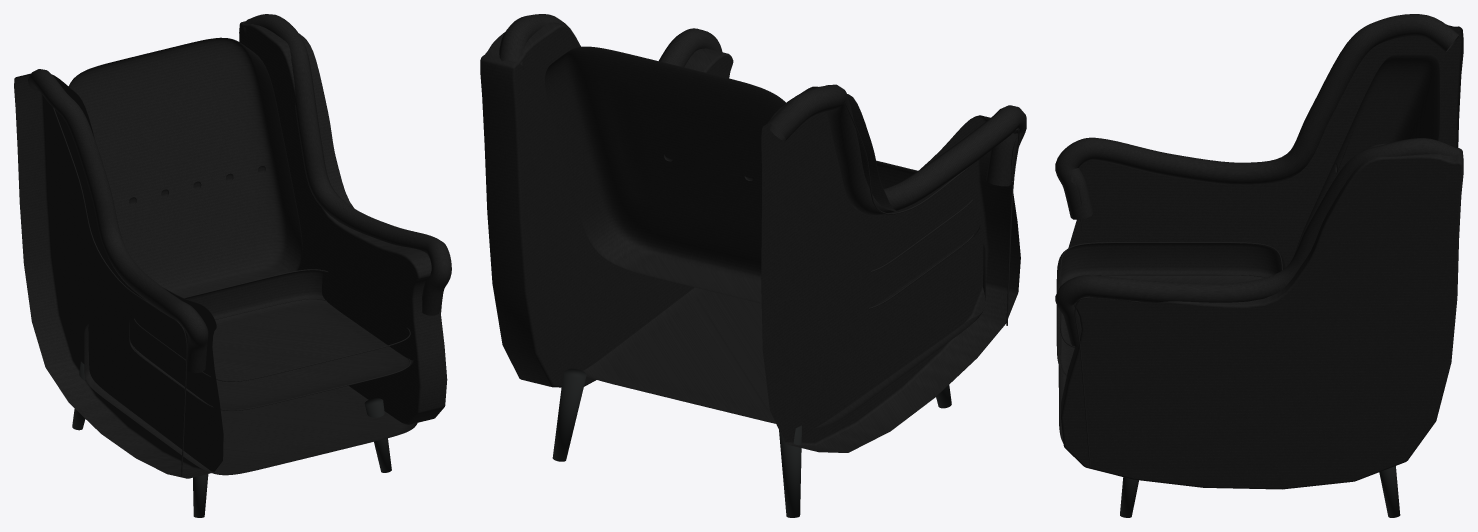
3 renders of one model, left to right at view 1: azimuth 30°, elevation 25°; view 2: azimuth 150°, elevation 25°; view 3: azimuth 270°, elevation 25°, orthographic. The views are drawn at different scales.
Visible parts, largest first — view 1: Tall buttoned back cushion, Continuous wing and arm side -1, Continuous wing and arm side 1, Separate seat cushion, Upholstered lower apron, Rolled wing and arm rim 1, Rolled wing and arm rim -1, Tapered black leg 1 1, Seat cushion welt, Visible side tailoring seam -1, Seat cushion welt.001, Tapered black leg -1 1; view 2: Continuous wing and arm side -1, Tall buttoned back cushion, Continuous wing and arm side 1, Upholstered lower apron, Rolled wing and arm rim -1, Rolled wing and arm rim 1, Tapered black leg 1 -1, Tapered black leg -1 -1, Separate seat cushion, Visible side tailoring seam -1; view 3: Continuous wing and arm side 1, Continuous wing and arm side -1, Rolled wing and arm rim -1, Separate seat cushion, Rolled wing and arm rim 1, Tall buttoned back cushion, Tapered black leg 1 -1, Seat cushion welt, Tapered black leg 1 1.
Part boxes in pixels (x1,y1,x2,y2): Tall buttoned back cushion: (68,37,302,297); Continuous wing and arm side -1: (14,73,223,478); Continuous wing and arm side 1: (239,21,447,424); Separate seat cushion: (129,270,414,409); Upholstered lower apron: (84,323,418,475); Rolled wing and arm rim 1: (243,14,451,315); Rolled wing and arm rim -1: (28,69,208,373); Tapered black leg 1 1: (364,398,391,472); Seat cushion welt: (133,269,410,381); Visible side tailoring seam -1: (53,107,187,476); Seat cushion welt.001: (133,298,410,410); Tapered black leg -1 1: (193,474,208,517); Continuous wing and arm side -1: (761,86,1020,452); Tall buttoned back cushion: (545,46,785,303); Continuous wing and arm side 1: (480,22,733,387); Upholstered lower apron: (583,241,985,428); Rolled wing and arm rim -1: (767,84,1026,215); Rolled wing and arm rim 1: (499,14,722,69); Tapered black leg 1 -1: (552,368,586,461); Tapered black leg -1 -1: (779,425,801,517); Separate seat cushion: (873,162,980,307); Visible side tailoring seam -1: (843,101,1019,325); Continuous wing and arm side 1: (1061,143,1463,489); Continuous wing and arm side -1: (1068,24,1463,267); Rolled wing and arm rim -1: (1055,14,1459,219); Separate seat cushion: (1056,243,1285,375); Rolled wing and arm rim 1: (1055,138,1459,346); Tall buttoned back cushion: (1295,54,1439,253); Tapered black leg 1 -1: (1379,466,1400,517); Seat cushion welt: (1060,242,1282,347); Tapered black leg 1 1: (1120,477,1138,517).
Bounding box in the file's own units: 0.82 × 1.01 × 0.96.
Materials: 3 (2 with a texture image).
